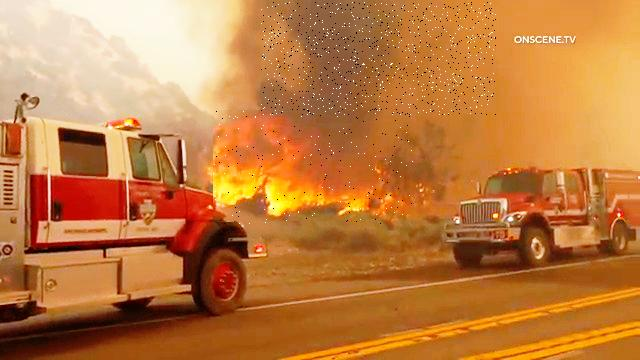fire: (214, 111, 414, 225)
smoke: (261, 2, 496, 115)
